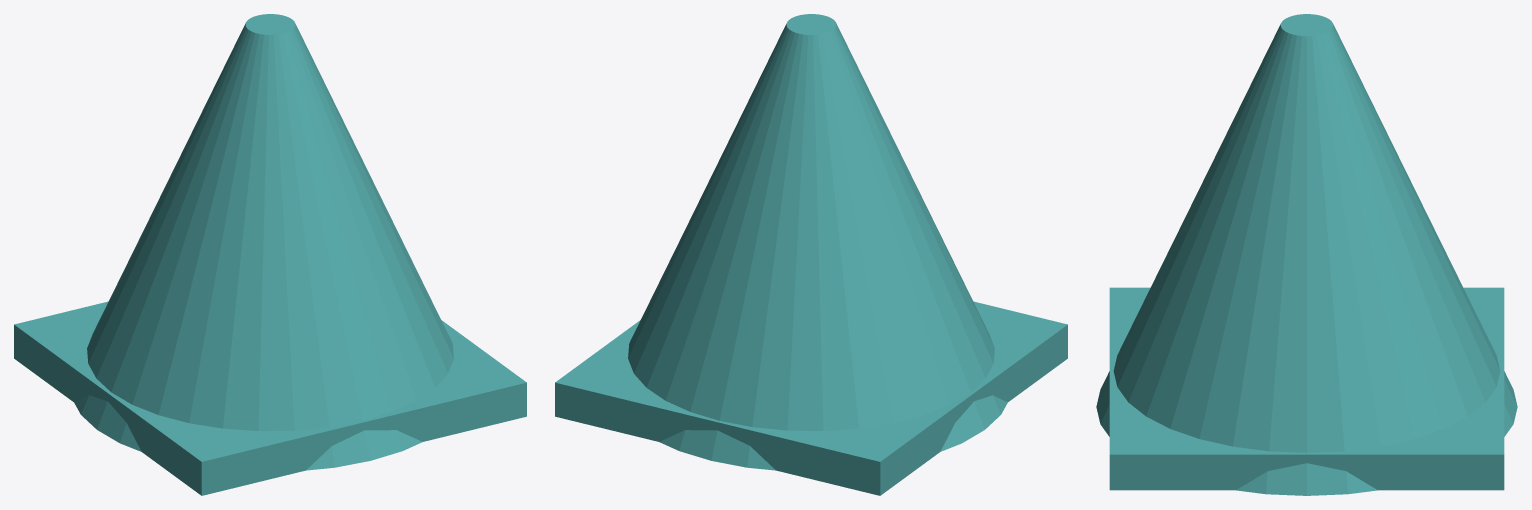
The model's file is cone_teal.glb.
3 views of the same model, side by side, from view 1: azimuth 30°, elevation 25°; view 2: azimuth 150°, elevation 25°; view 3: azimuth 270°, elevation 25° (orthographic). The views are drawn at different scales.
Parts seen in each view (by area): view 1: cone_teal, cone_teal_base; view 2: cone_teal, cone_teal_base; view 3: cone_teal, cone_teal_base.
Part boxes in pixels (x1,y1,x2,y2): cone_teal: [74, 14, 453, 470]; cone_teal_base: [14, 301, 526, 495]; cone_teal: [628, 14, 1007, 470]; cone_teal_base: [555, 301, 1067, 495]; cone_teal: [1096, 14, 1517, 495]; cone_teal_base: [1109, 287, 1504, 490].
Size of the model in its own units: 0.32 by 0.32 by 0.32.
